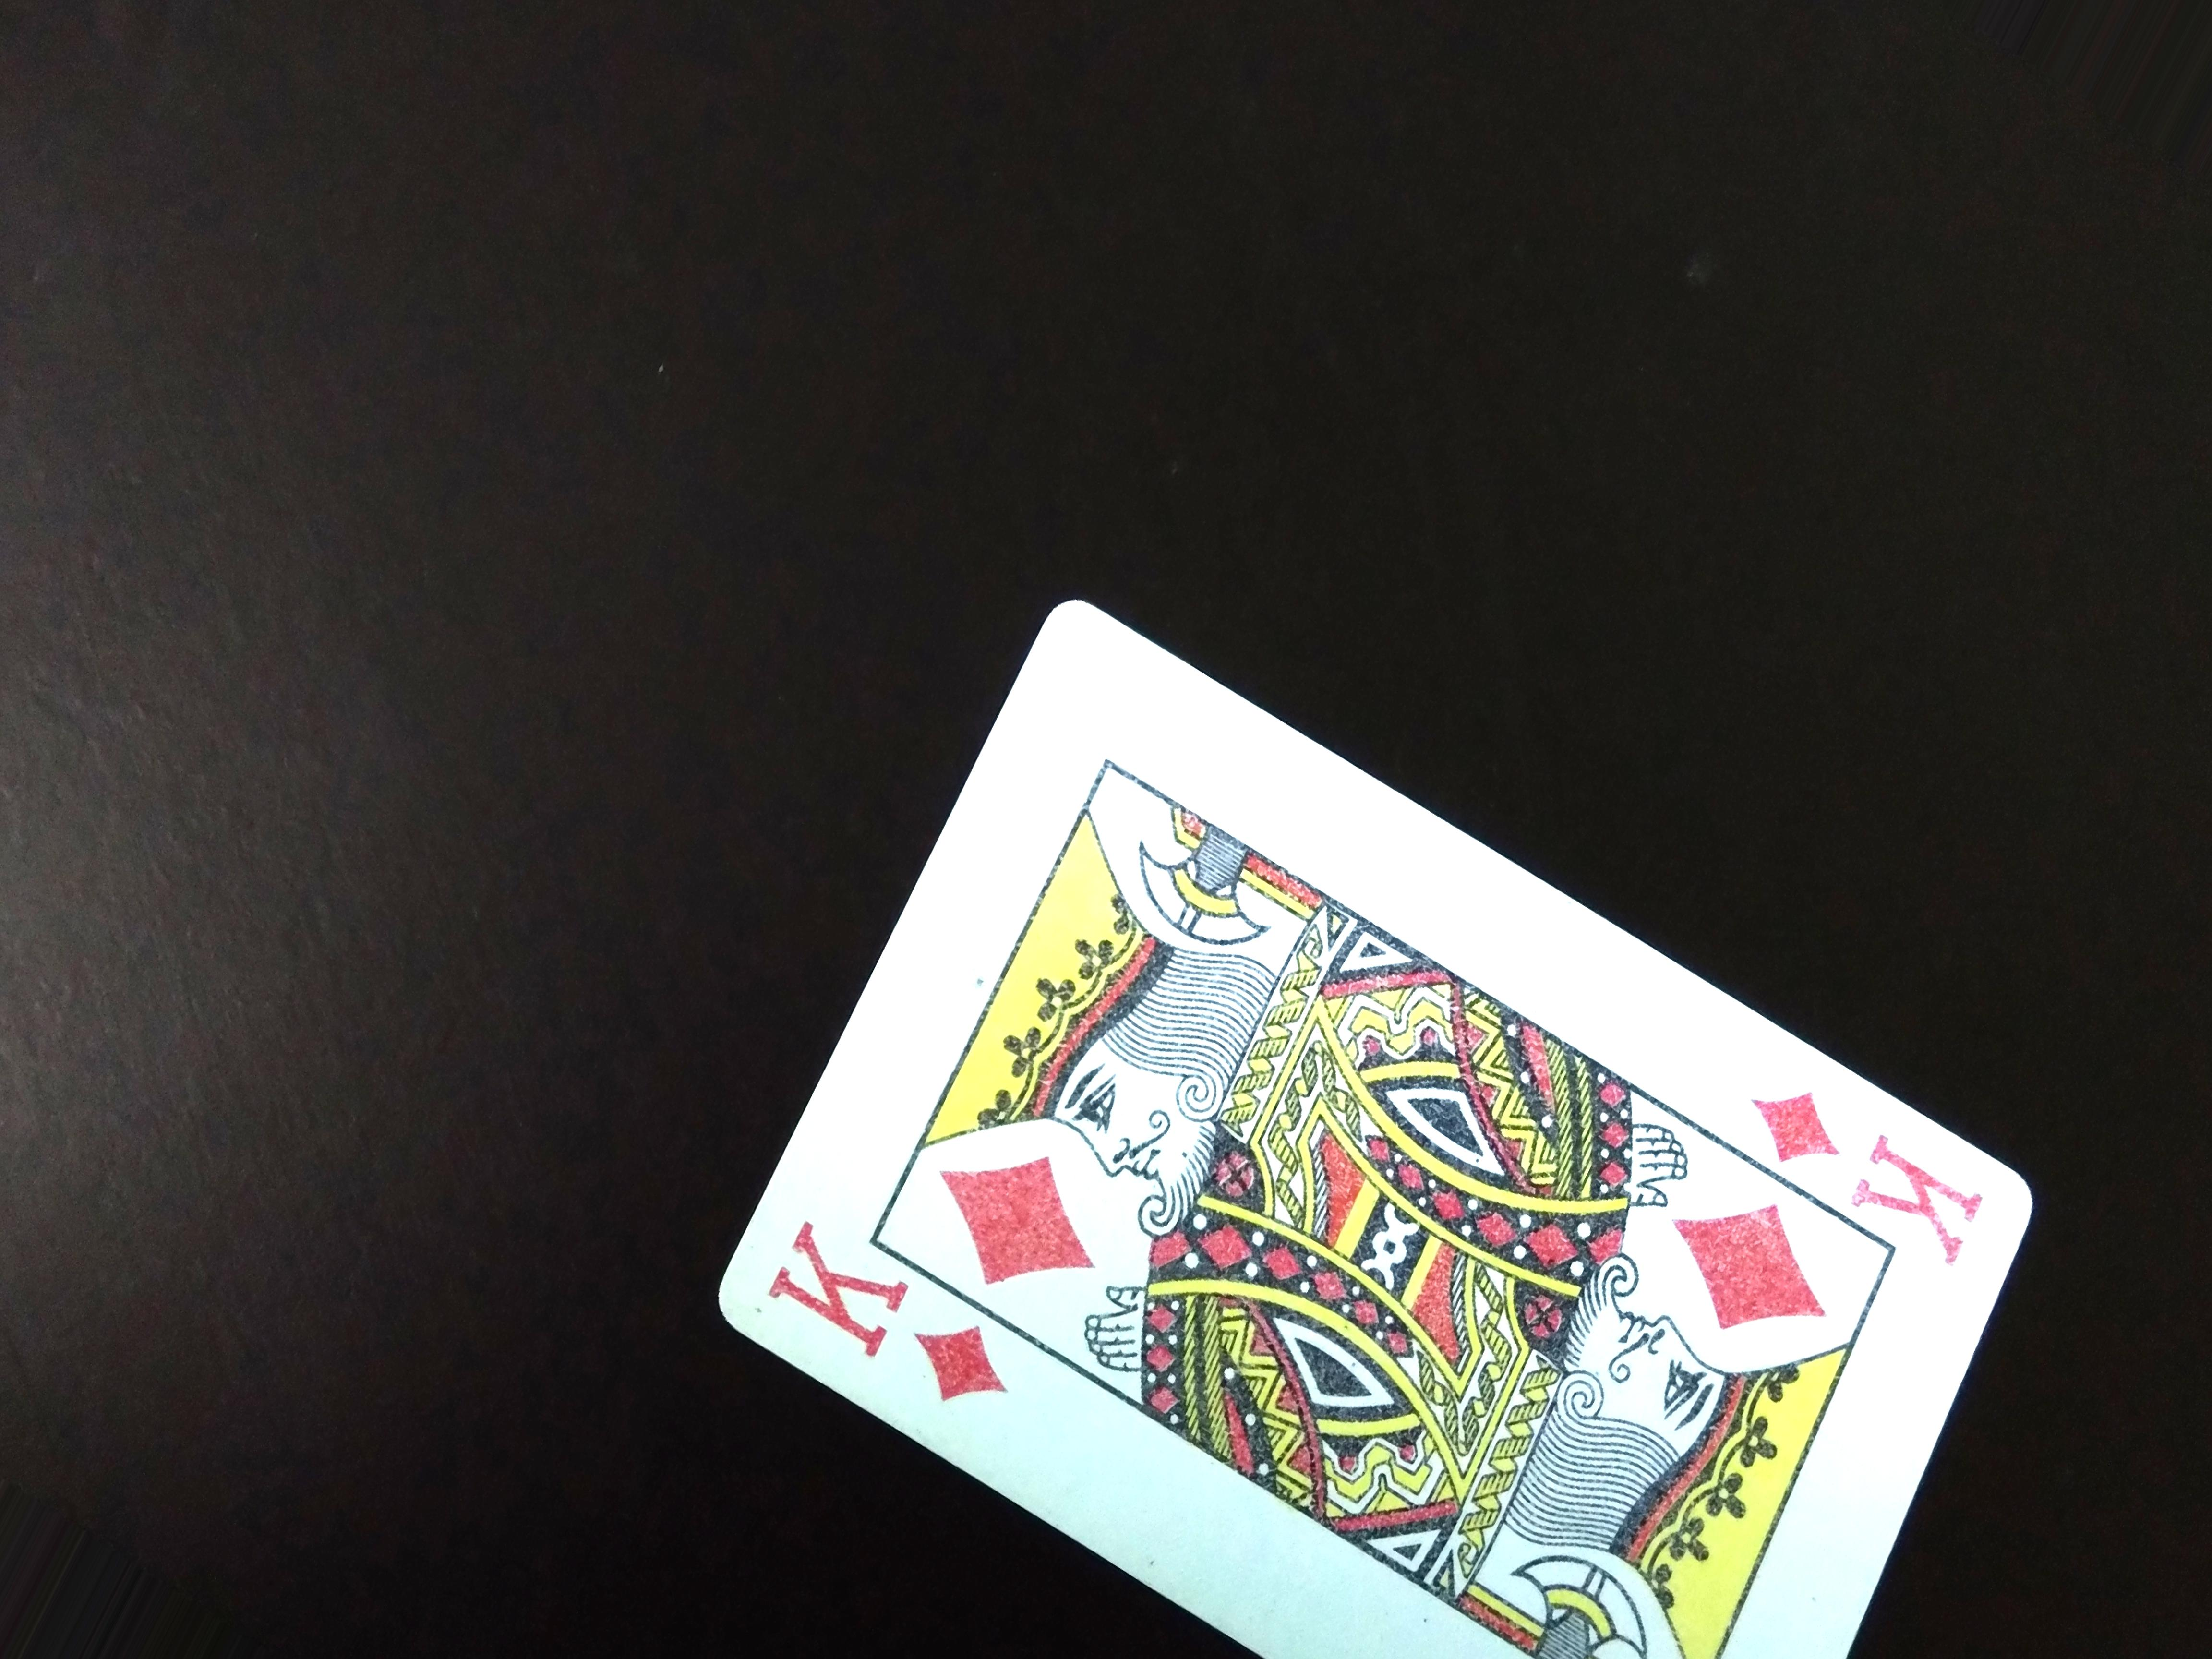KD: (763, 1223, 1012, 1438)
